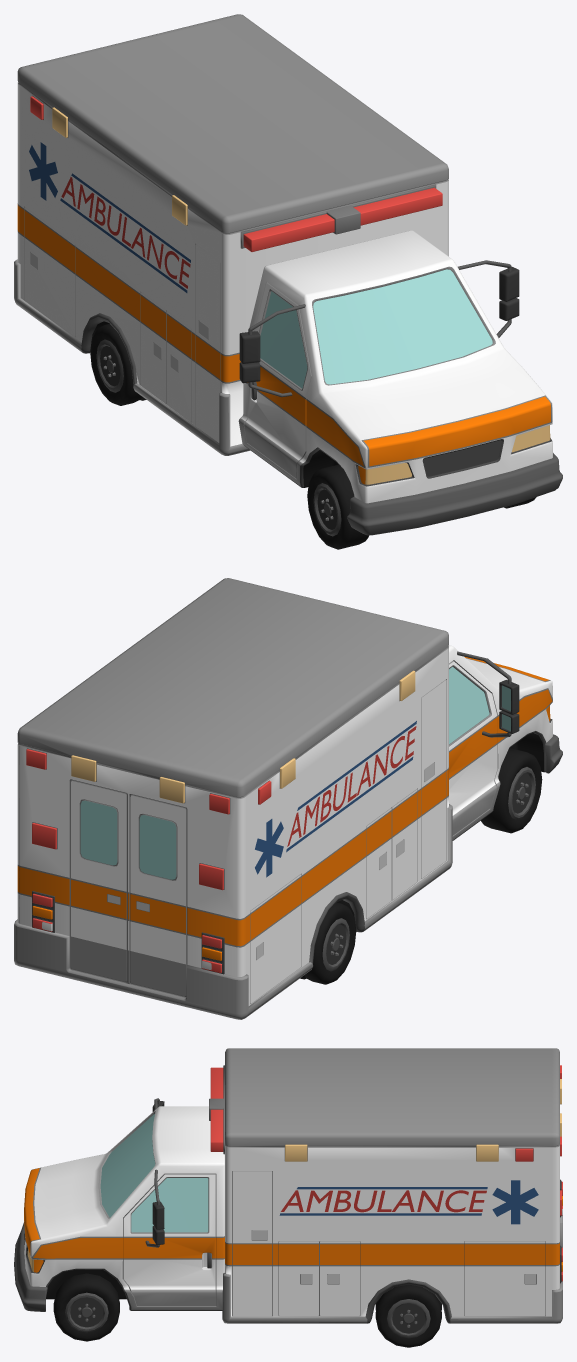
The model's file is SM_Vehicles_Ambulance.fbx.
The picture shows the model from 3 angles, top to bottom: view 1: azimuth 30°, elevation 25°; view 2: azimuth 150°, elevation 25°; view 3: azimuth 270°, elevation 25°; orthographic projection. The views are drawn at different scales.
Parts seen in each view (by area): view 1: SM_Vehicles_Ambulance, SM_Vehicles_Ambulance_FR, SM_Vehicles_Ambulance_RR; view 2: SM_Vehicles_Ambulance, SM_Vehicles_Ambulance_FR, SM_Vehicles_Ambulance_RR; view 3: SM_Vehicles_Ambulance, SM_Vehicles_Ambulance_FL, SM_Vehicles_Ambulance_RL.
Boxes of the visible parts, x1,y1,x2,y2 form: SM_Vehicles_Ambulance: [14, 14, 562, 535]; SM_Vehicles_Ambulance_FR: [307, 464, 369, 549]; SM_Vehicles_Ambulance_RR: [90, 323, 146, 405]; SM_Vehicles_Ambulance: [14, 578, 562, 1019]; SM_Vehicles_Ambulance_FR: [481, 748, 542, 833]; SM_Vehicles_Ambulance_RR: [300, 902, 356, 984]; SM_Vehicles_Ambulance: [14, 1048, 562, 1323]; SM_Vehicles_Ambulance_FL: [53, 1273, 119, 1341]; SM_Vehicles_Ambulance_RL: [375, 1284, 441, 1347].
Bounding box in the file's own units: 2.45 × 2.27 × 5.27.
